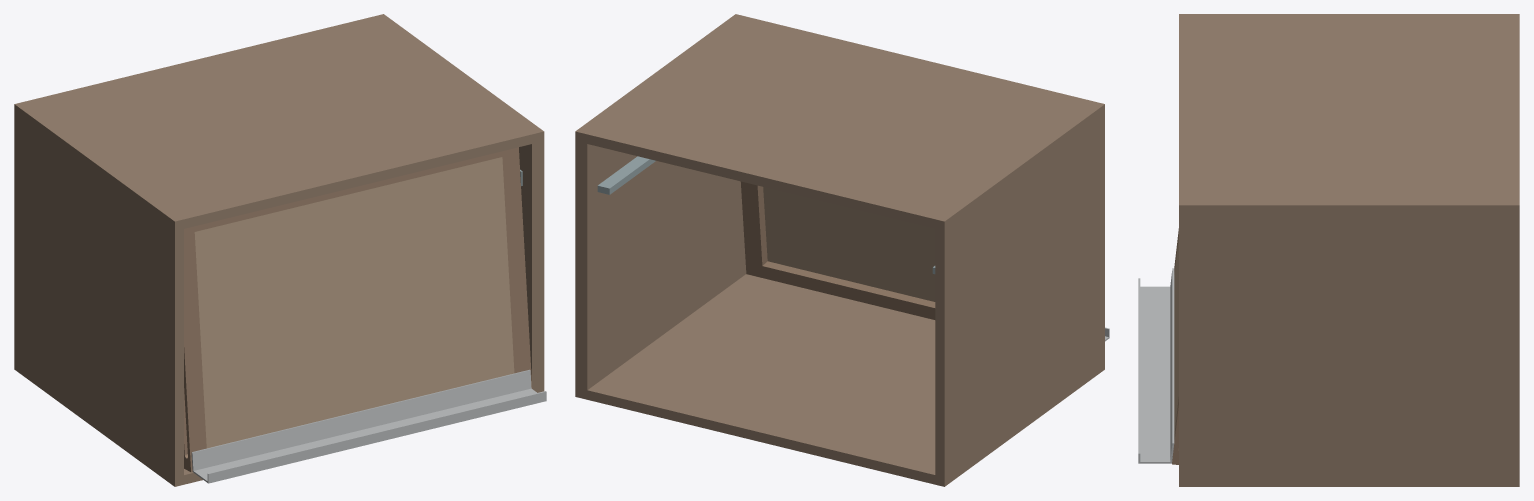
The model's file is mechanism-closed.glb.
3 views of the same model, side by side, from view 1: azimuth 30°, elevation 25°; view 2: azimuth 150°, elevation 25°; view 3: azimuth 270°, elevation 25° (orthographic). The views are drawn at different scales.
Visible parts, largest first — view 1: Plywood-infill-6, Roof, Left-cheek, Display-ledge, Right-cheek, Stile-L, Stile-R, Top-rail, Sill; view 2: Roof, Sill, Left-cheek, Right-cheek, Plywood-infill-6, Bottom-rail, Stile-R, Runner-R; view 3: Right-cheek, Roof, Display-ledge, Sill, Plywood-infill-6.
Part boxes in pixels (bbox=[...]): Plywood-infill-6: bbox=[194, 157, 514, 448]; Roof: bbox=[14, 14, 544, 230]; Left-cheek: bbox=[14, 114, 183, 477]; Display-ledge: bbox=[191, 369, 546, 483]; Right-cheek: bbox=[519, 141, 544, 389]; Stile-L: bbox=[184, 226, 206, 472]; Stile-R: bbox=[502, 147, 532, 388]; Top-rail: bbox=[194, 151, 502, 231]; Sill: bbox=[14, 360, 544, 486]; Roof: bbox=[575, 14, 1104, 230]; Sill: bbox=[575, 274, 1104, 486]; Left-cheek: bbox=[935, 114, 1104, 477]; Right-cheek: bbox=[575, 141, 746, 390]; Plywood-infill-6: bbox=[763, 187, 935, 301]; Bottom-rail: bbox=[762, 261, 935, 319]; Stile-R: bbox=[740, 181, 767, 277]; Runner-R: bbox=[597, 156, 655, 194]; Right-cheek: bbox=[1179, 215, 1519, 476]; Roof: bbox=[1179, 14, 1519, 215]; Display-ledge: bbox=[1138, 268, 1174, 463]; Sill: bbox=[1179, 477, 1519, 486]; Plywood-infill-6: bbox=[1174, 237, 1178, 433].
Size of the model in its own units: 0.485 by 0.333 by 0.4085.
